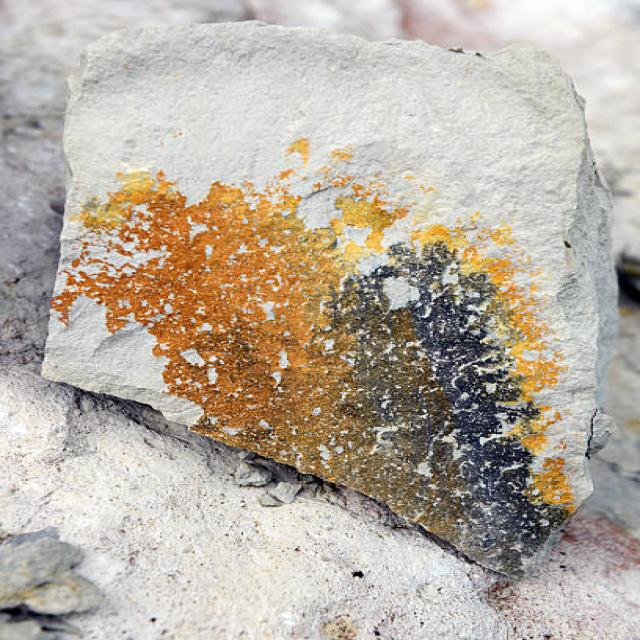Sedimentary: (39, 18, 618, 562)
